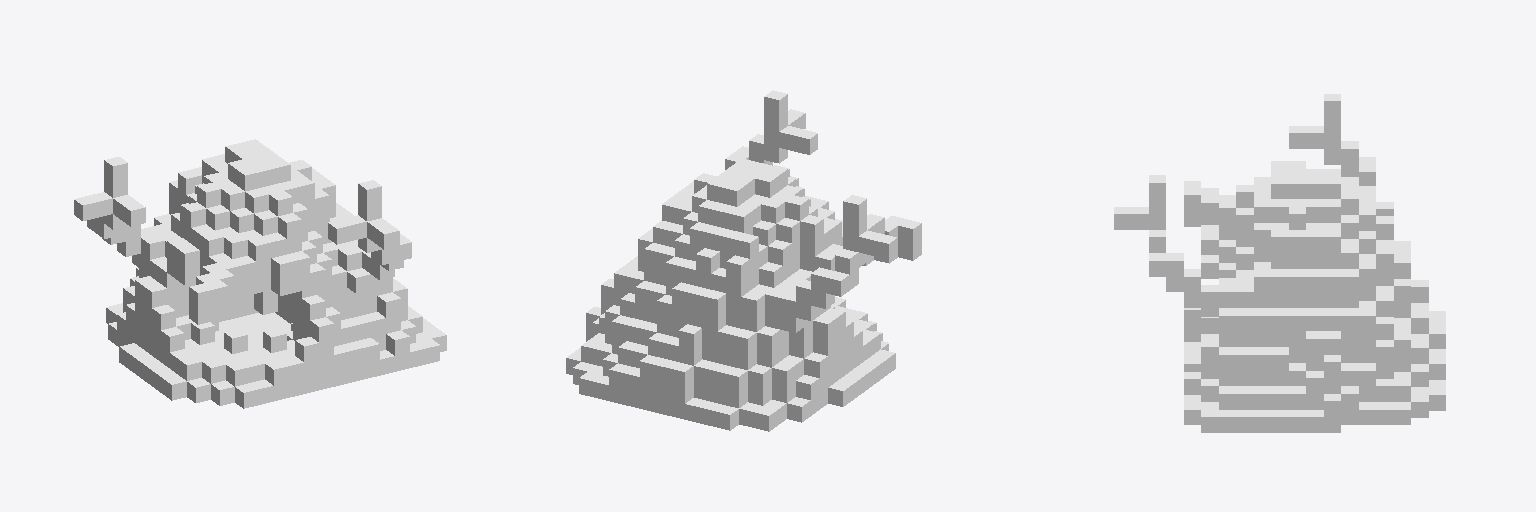
The model's file is Smol-EVIL.obj.
The picture shows the model from 3 angles: view 1: azimuth 30°, elevation 25°; view 2: azimuth 150°, elevation 25°; view 3: azimuth 270°, elevation 25°; orthographic projection.
Visible parts, largest first — view 1: object 1; view 2: object 1; view 3: object 1.
Boxes of the visible parts, x1=… form: object 1: x1=74, y1=139, x2=446, y2=408; object 1: x1=566, y1=90, x2=921, y2=431; object 1: x1=1114, y1=94, x2=1445, y2=432.
Size of the model in its own units: 2 by 1.3 by 1.9.